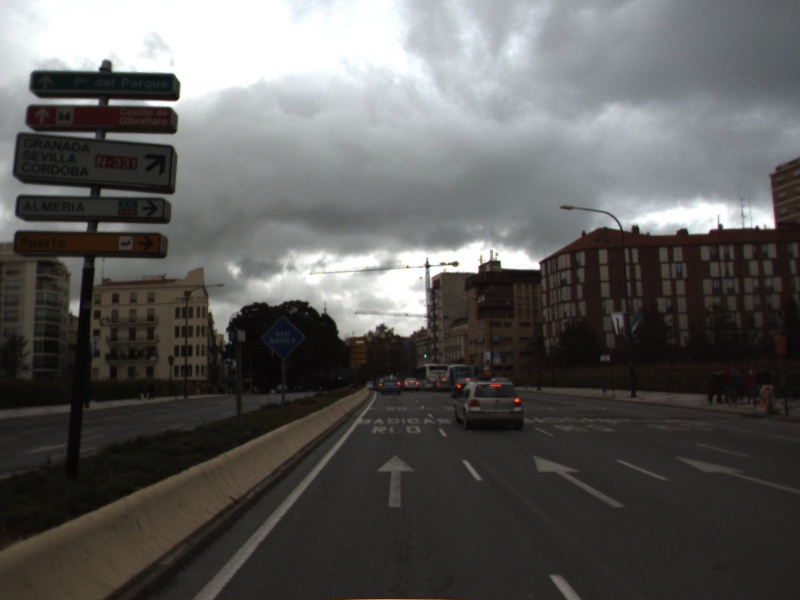STRAIGHT: (530, 452, 630, 511), (673, 454, 800, 494), (374, 453, 419, 510)
